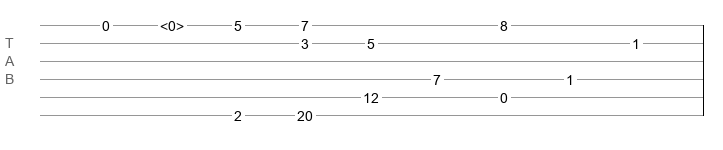0: (102, 18, 110, 28), (500, 90, 508, 100)
1: (566, 72, 574, 82), (632, 36, 640, 46)
12: (363, 90, 379, 100)
2: (234, 108, 242, 118)
20: (297, 108, 313, 118)
3: (301, 36, 309, 46)
5: (234, 18, 242, 28), (367, 36, 375, 46)
7: (301, 18, 309, 28), (433, 72, 441, 82)
8: (500, 18, 508, 28)
harmonic: (160, 18, 184, 28)
